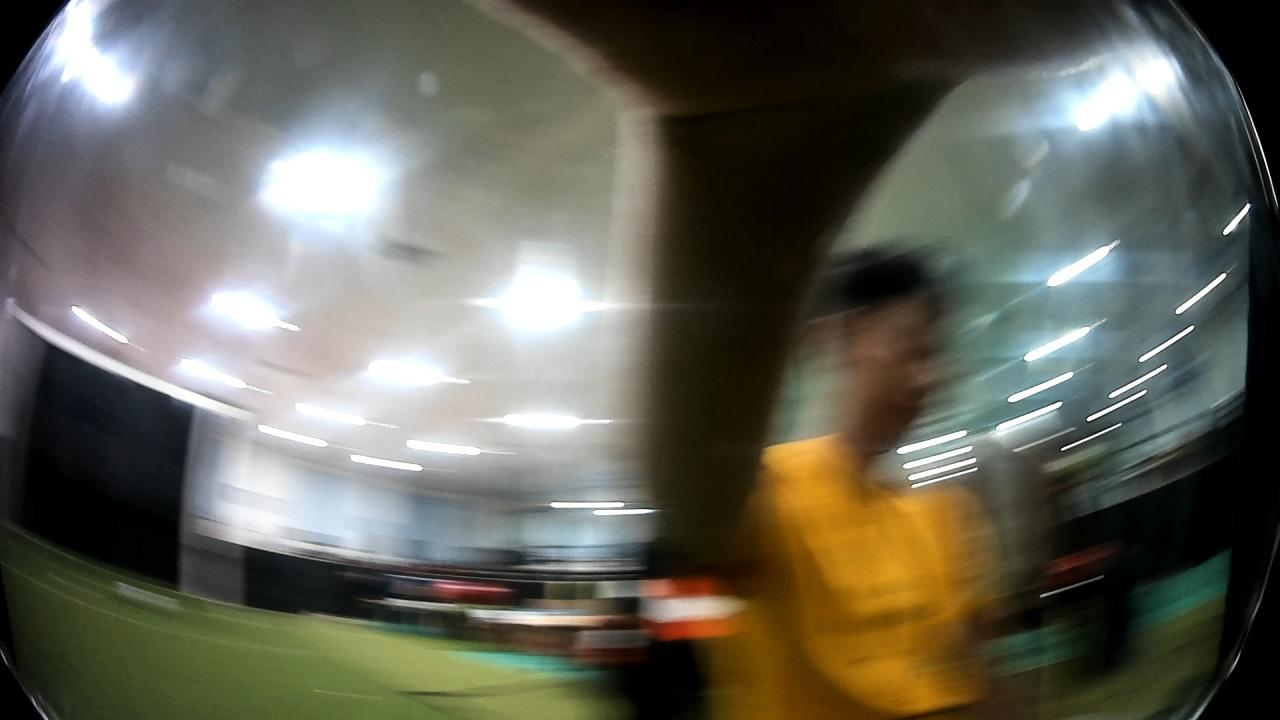ball: (112, 581, 179, 620)
